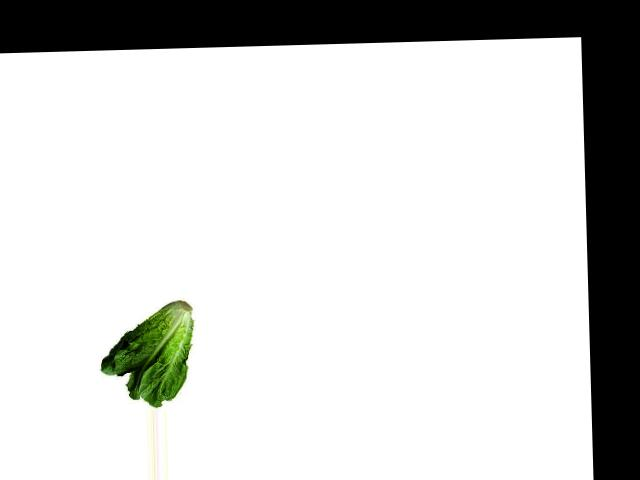lettuce: (95, 300, 199, 410)
